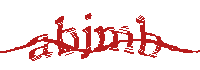a: (27, 34, 53, 61)
b: (136, 14, 162, 58), (54, 16, 78, 58)
j: (81, 12, 92, 60)
m: (95, 26, 135, 56)
